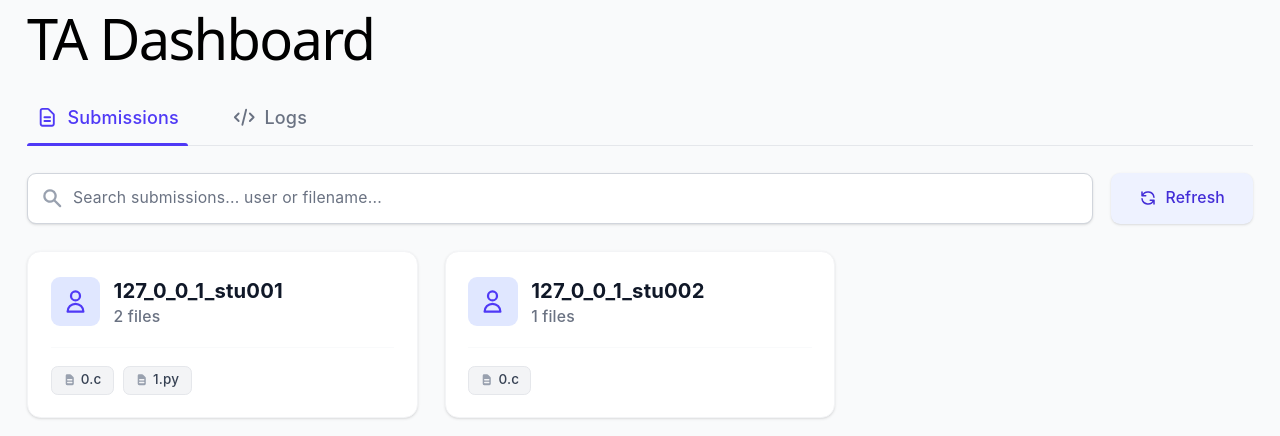
Scenario: DashboardPage › should switch to logs tab and display logs
The image size is (1280, 436).
Click the button with test id "tab-logs" at (270, 124), box [224,104,316,145]
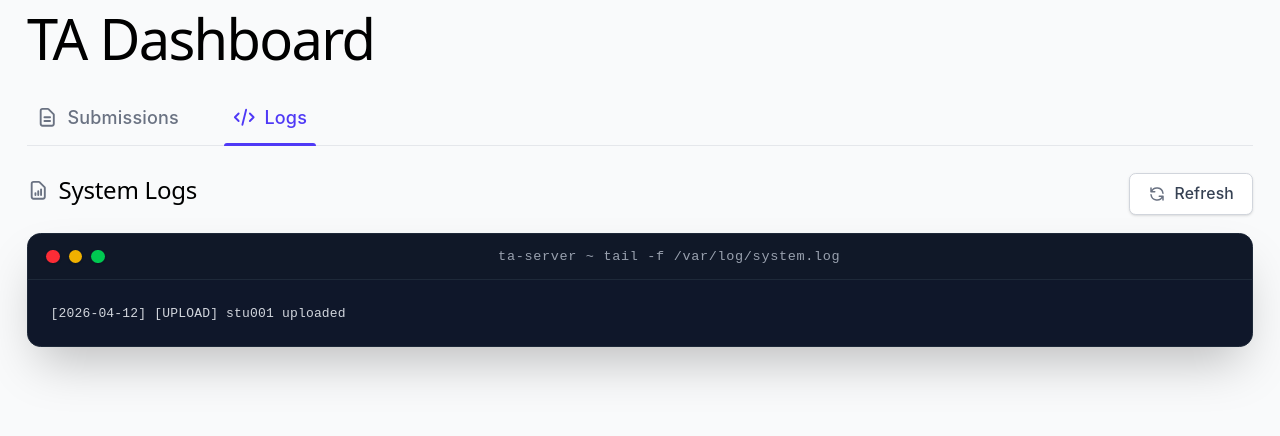
Expected: the text with test id "logs-content" shows "UPLOAD", [50,306,346,321]
